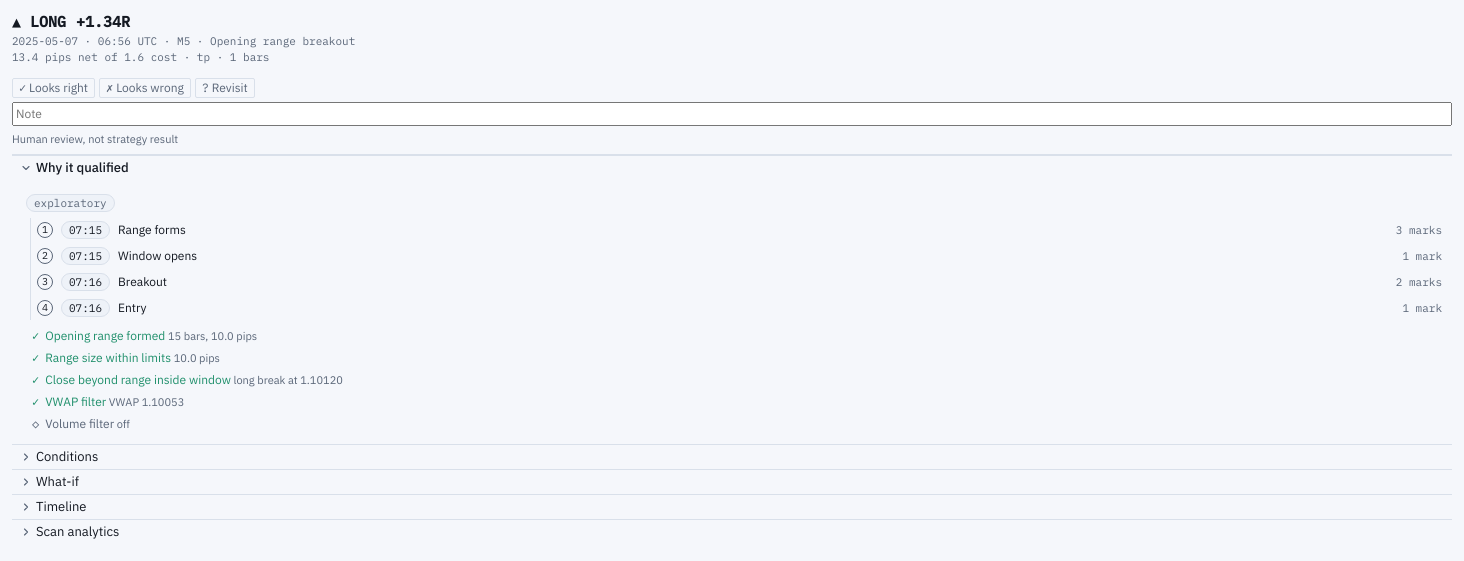
Test: DX3 SetupDetail sections › selected setup: header, Why open by default, five sections
expect the header named "Setup summary" shows "+1.34R": met, box [76,12,130,31]
expect the header named "Setup summary" shows "▲ LONG": met, box [12,12,66,31]
Click the button "Timeline" at point(61, 506), box [12,495,1452,519]
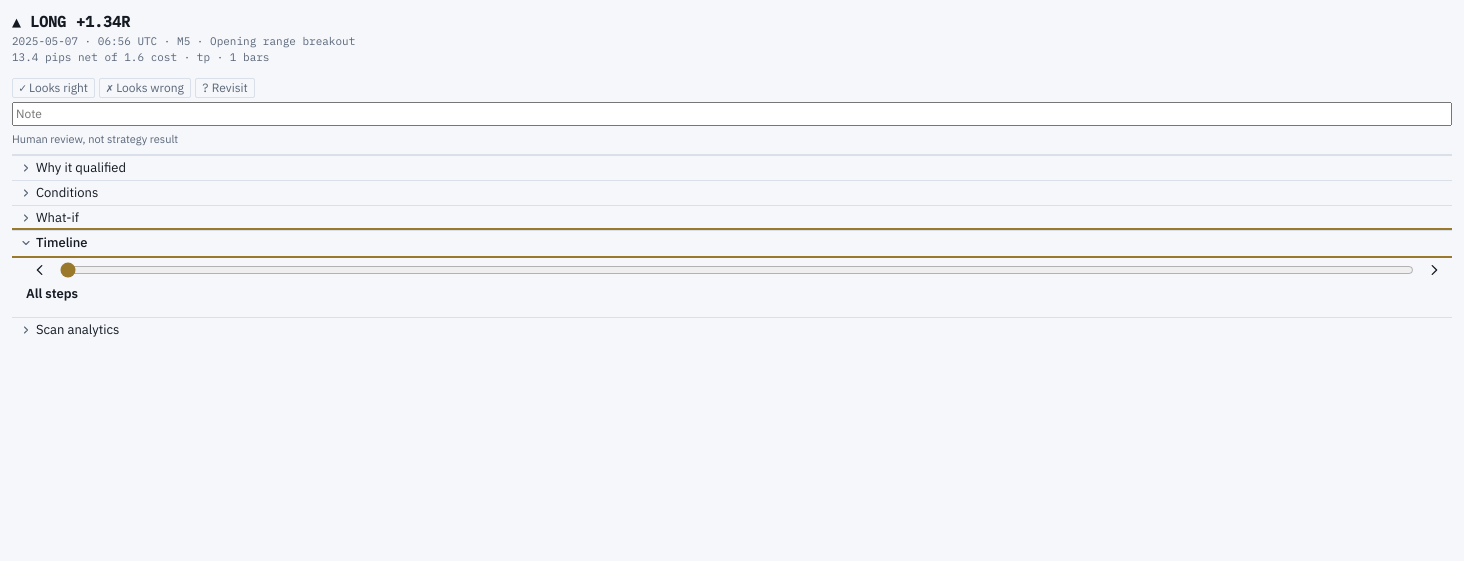
expect the element "steps" is shown: met, box [26,259,1448,303]
expect the button "Why it qualified" is collapsed: met, box [12,156,1452,180]
